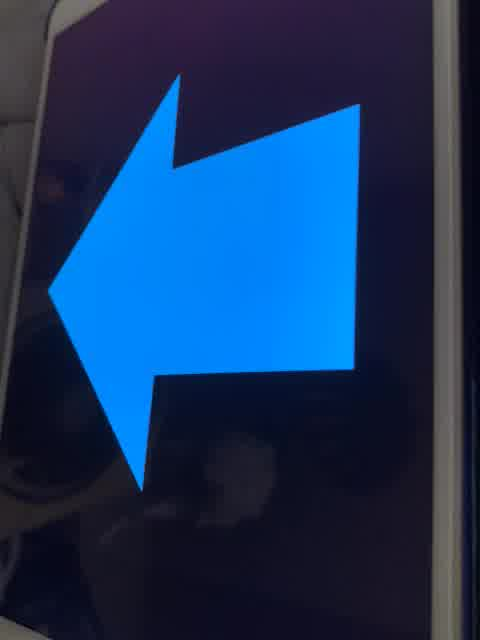left: (39, 68, 365, 494)
